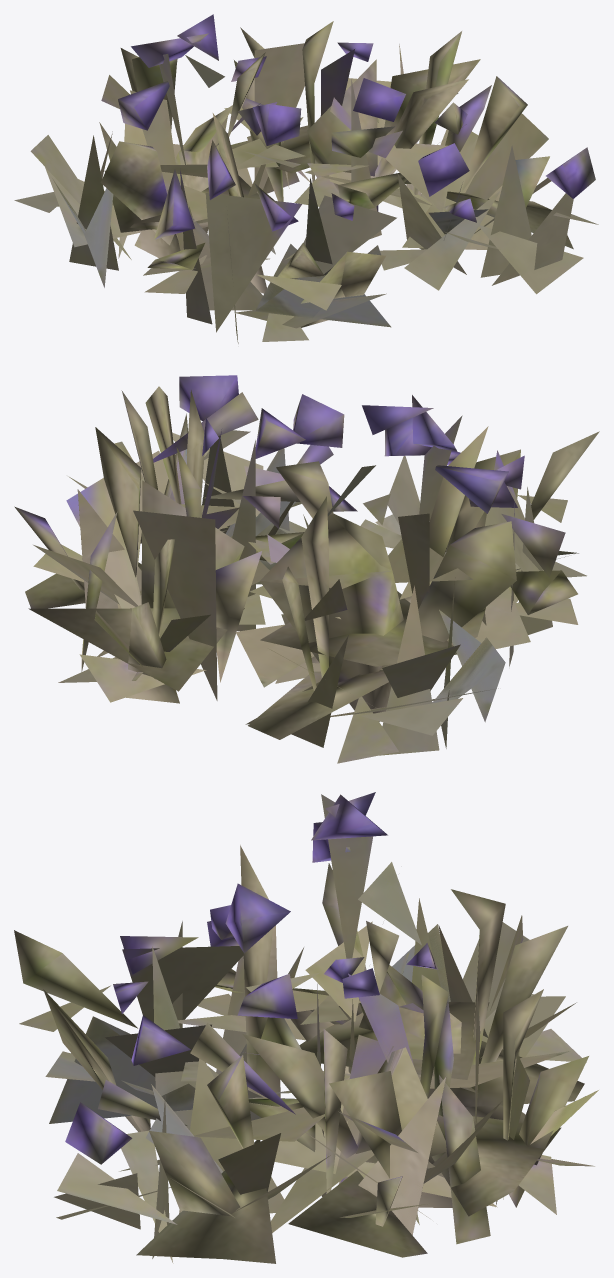
The model's file is rl_isle_thistle.glb.
The picture shows the model from 3 angles, top to bottom: view 1: azimuth 30°, elevation 25°; view 2: azimuth 150°, elevation 25°; view 3: azimuth 270°, elevation 25°; orthographic projection. The views are drawn at different scales.
Visible parts, largest first — view 1: kit-flower-meadow-3; view 2: kit-flower-meadow-3; view 3: kit-flower-meadow-3.
Boxes of the visible parts, x1,y1,x2,y2 form: kit-flower-meadow-3: [14, 14, 598, 343]; kit-flower-meadow-3: [14, 375, 599, 763]; kit-flower-meadow-3: [14, 792, 598, 1263].
Size of the model in its own units: 1.25 by 0.7 by 1.23.
1 material, 1 textured.
